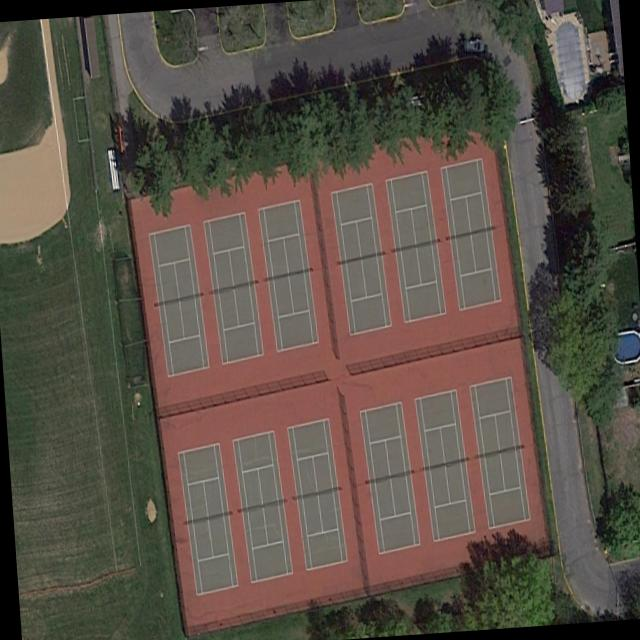small-vehicle: (463, 39, 484, 52)
